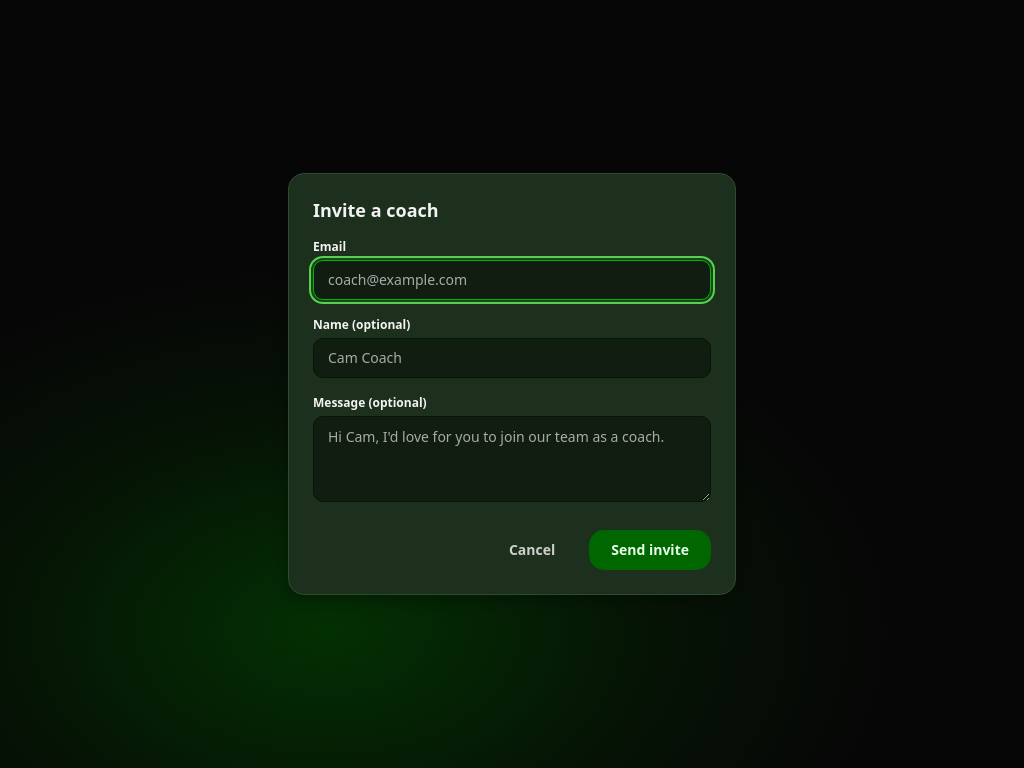
Test case: InviteCoachModal › maps a 409 COACH_ALREADY_ON_ROSTER to a specific message and stays open
Type "cam@example.com" into the field labelled "Email" at (512, 280), box [313, 260, 711, 300]
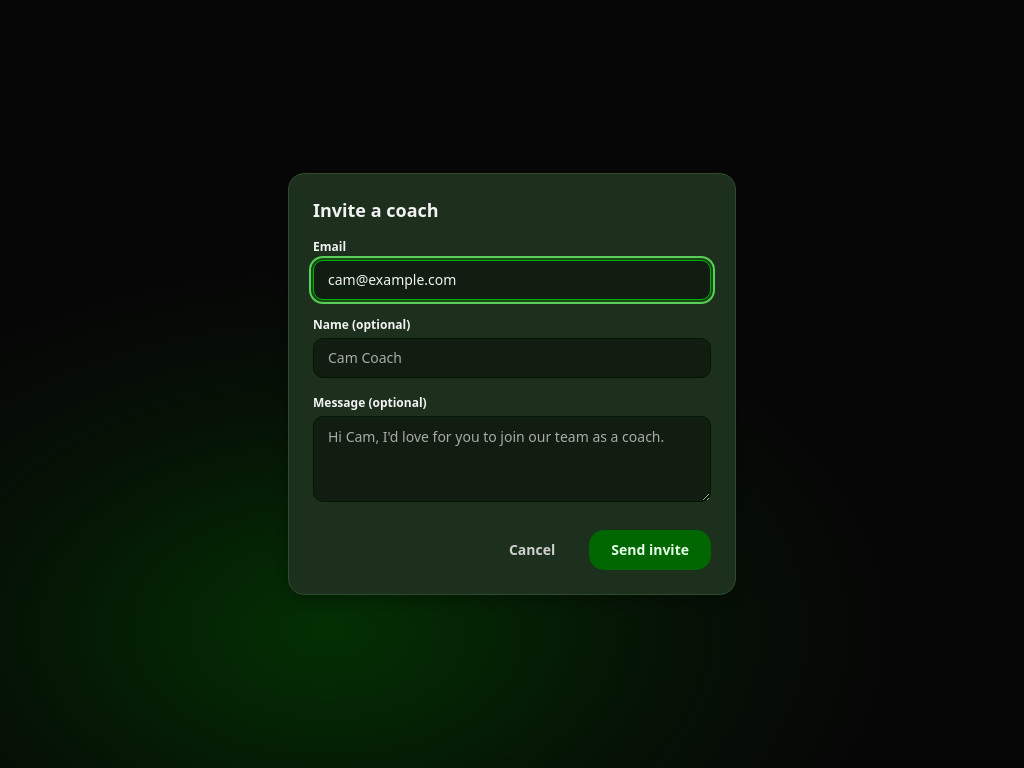
Click the button "Send invite" at (650, 550), box [589, 530, 711, 570]
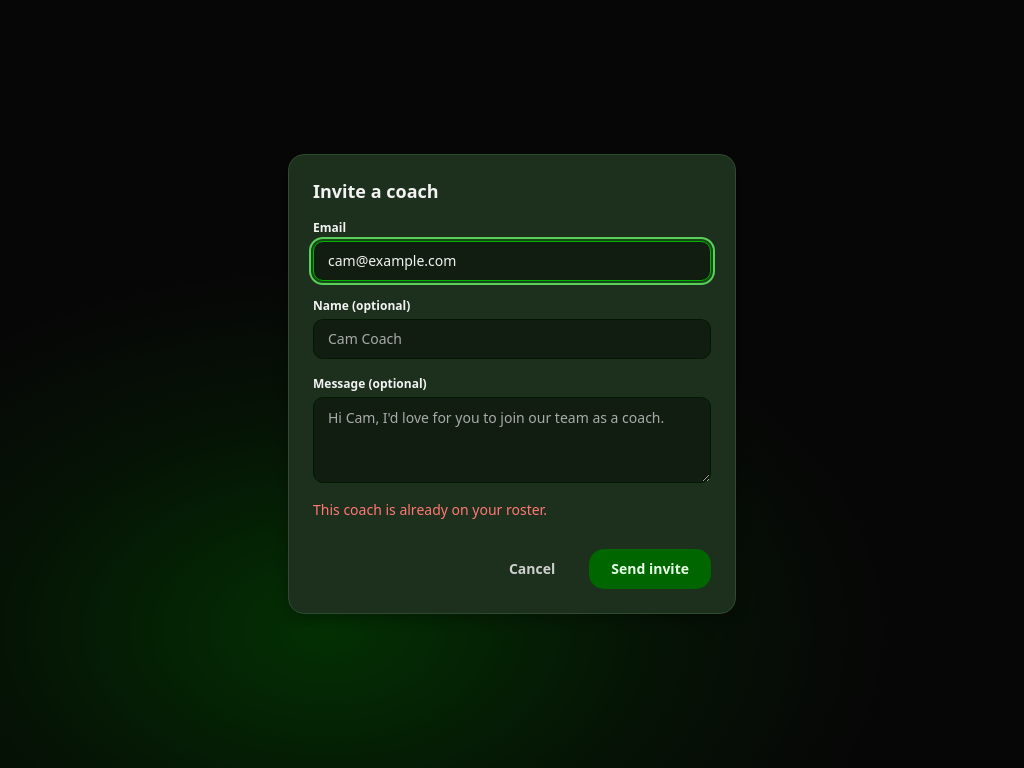
Result: the message shows "already on your roster" at [313, 500, 547, 519]
